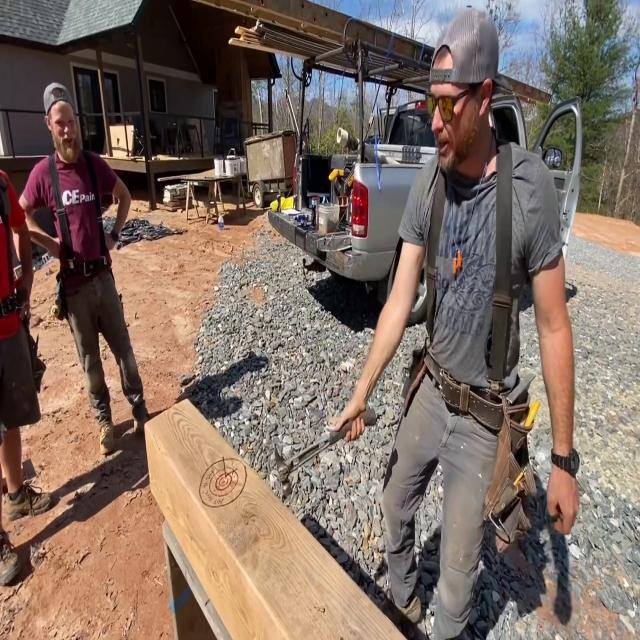hammer: (274, 407, 376, 498)
